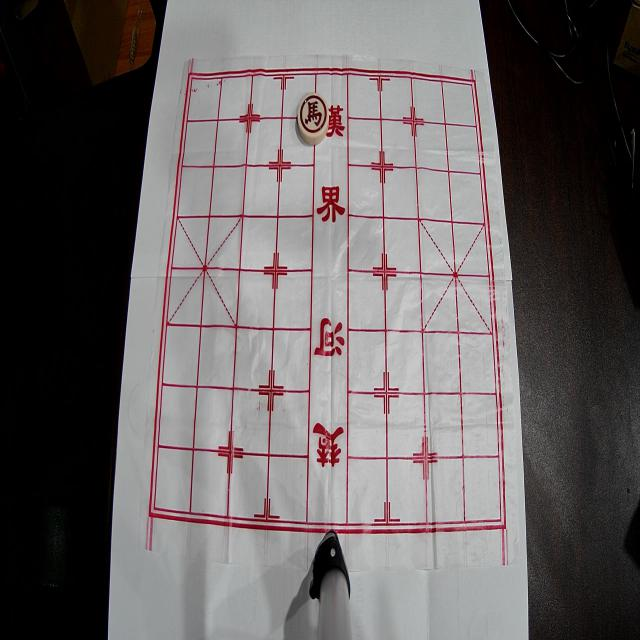red-horse: (298, 92, 329, 145)
